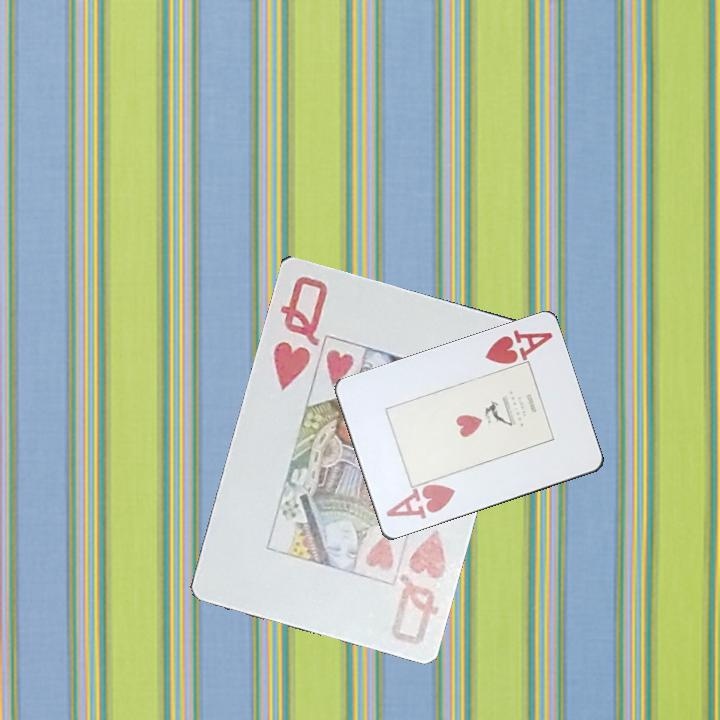Ah: (382, 481, 459, 523), (481, 326, 556, 368)
Qh: (269, 272, 332, 394), (387, 525, 449, 648)
